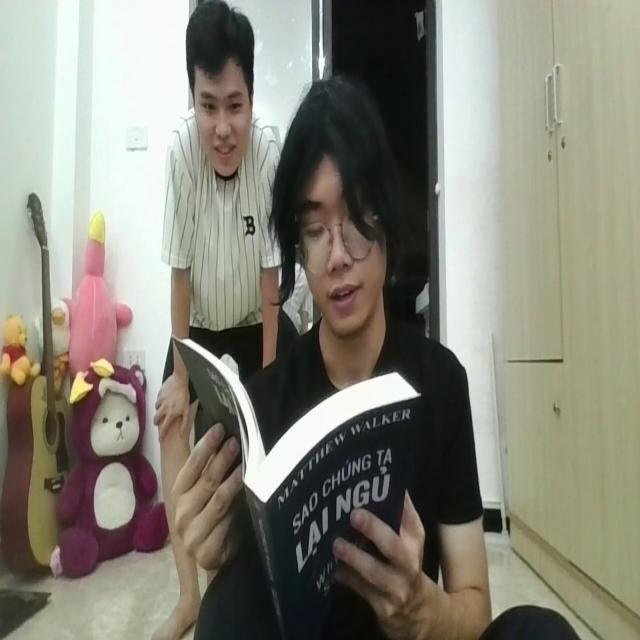book: (174, 327, 416, 628)
extra_person: (156, 19, 290, 367)
student: (173, 73, 490, 640)
